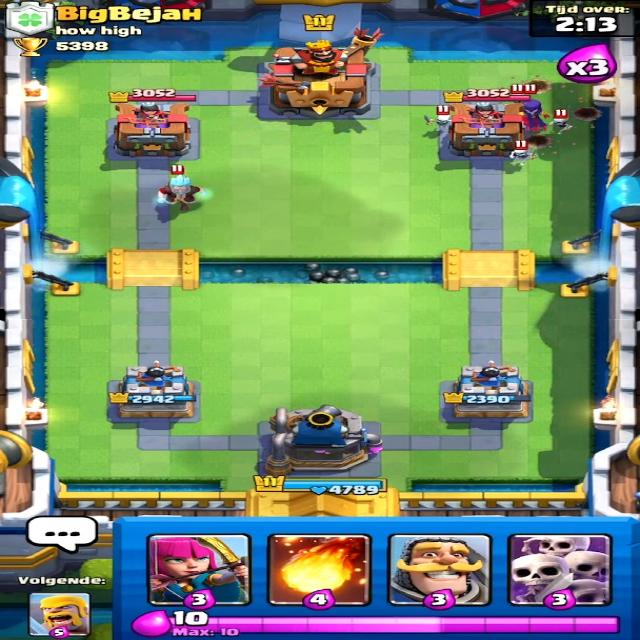Enemy_Ice_Wizard_Troop: (150, 175, 212, 214)
Enemy_Skeleton_Troop: (507, 149, 539, 166), (422, 114, 452, 131), (549, 116, 576, 134)
Enemy_Witch_Troop: (518, 96, 549, 134)
Fireball_Card: (262, 532, 369, 608)
